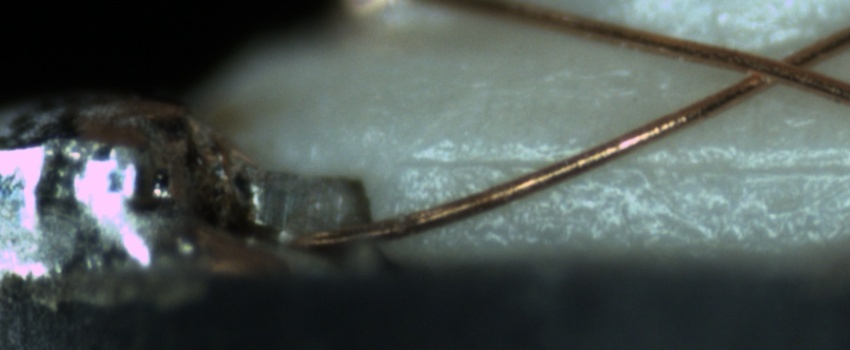CL: (726, 41, 821, 98)
DL: (407, 131, 850, 198)
